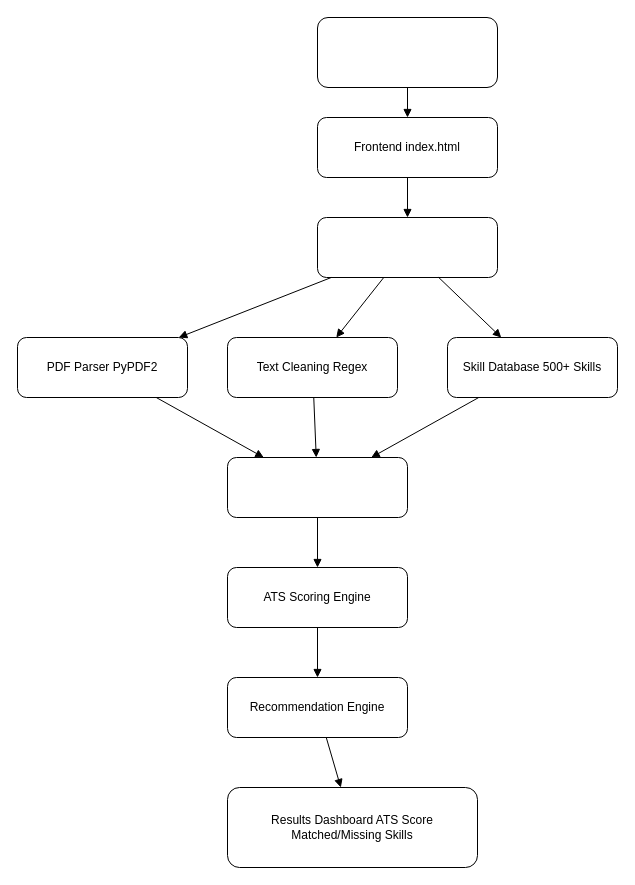
Image size: 635x885. Some labels were removed from this diagram. Each missing label, with the centre of its shape:
Flask Backend app.py: (x=407, y=247)
Skill Extraction Engine: (x=317, y=487)
User Upload Resume + Job Description: (x=407, y=52)
